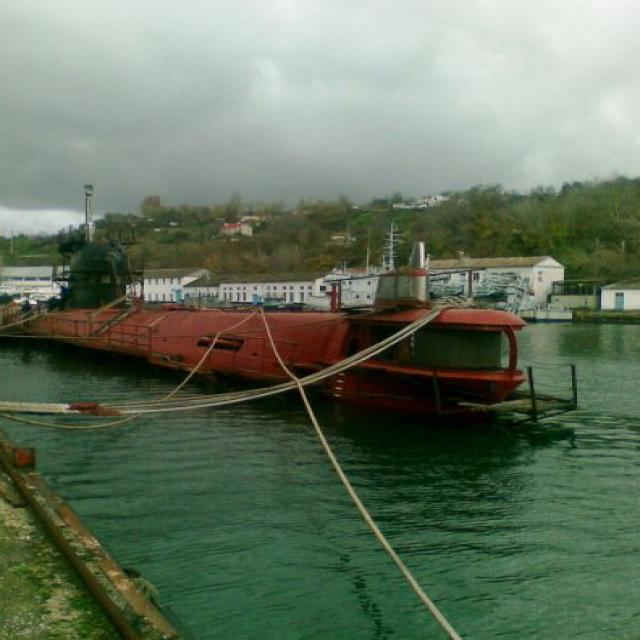submarine: (11, 222, 594, 418)
